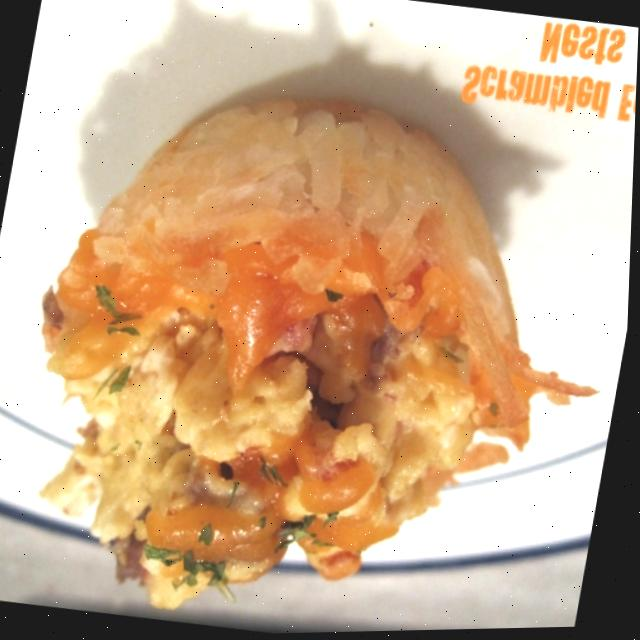鸡蛋料理: (0, 56, 638, 640)
